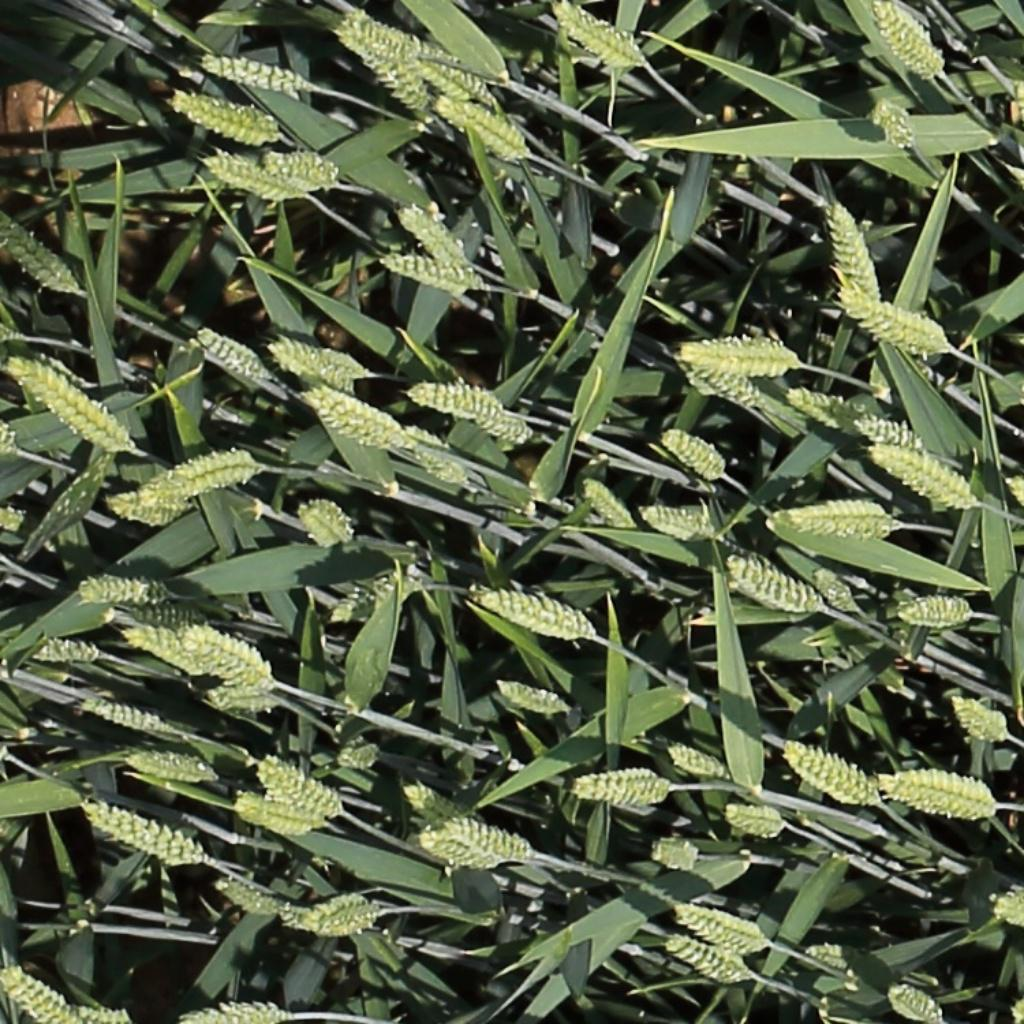0-0: (4, 354, 144, 456), (302, 386, 428, 455), (469, 581, 599, 647), (81, 804, 204, 869), (173, 618, 281, 690), (868, 446, 986, 510), (843, 294, 953, 362), (431, 87, 533, 160), (137, 441, 258, 502), (0, 206, 79, 296), (880, 765, 997, 822), (782, 742, 877, 808), (167, 90, 281, 145), (322, 568, 431, 625), (869, 1, 945, 82), (360, 48, 442, 122), (824, 195, 879, 305), (333, 8, 439, 65), (550, 5, 649, 66), (782, 496, 906, 542), (253, 756, 344, 817), (118, 621, 211, 679), (267, 334, 379, 382), (672, 334, 800, 375), (662, 932, 759, 986), (726, 558, 821, 613), (189, 326, 274, 387), (671, 900, 772, 951), (410, 52, 498, 110), (394, 199, 466, 268), (438, 812, 537, 861), (197, 51, 309, 94), (0, 959, 70, 1024), (685, 358, 770, 411), (412, 822, 507, 869), (200, 155, 305, 197), (570, 768, 675, 809), (77, 697, 174, 740), (403, 378, 503, 416), (787, 385, 867, 432), (853, 411, 931, 459), (378, 255, 483, 290), (213, 875, 301, 916), (577, 475, 636, 533), (260, 151, 343, 192), (74, 575, 173, 609), (122, 747, 217, 782), (659, 428, 724, 479), (101, 488, 188, 526), (492, 678, 574, 717), (294, 889, 372, 929), (294, 497, 356, 547), (173, 999, 295, 1024), (881, 980, 947, 1024), (403, 781, 470, 824), (948, 696, 1008, 744), (232, 800, 319, 832), (895, 595, 974, 630), (813, 567, 865, 619), (308, 901, 381, 938), (412, 445, 472, 489), (637, 506, 716, 539), (664, 738, 731, 776), (803, 934, 865, 974), (203, 681, 280, 713), (720, 799, 785, 836), (647, 834, 705, 875), (28, 636, 104, 667), (869, 96, 916, 144), (129, 603, 214, 629), (474, 409, 533, 444), (337, 737, 383, 772), (992, 880, 1024, 927), (67, 1004, 137, 1024), (1006, 72, 1024, 130), (0, 419, 21, 464), (1001, 470, 1024, 511)
